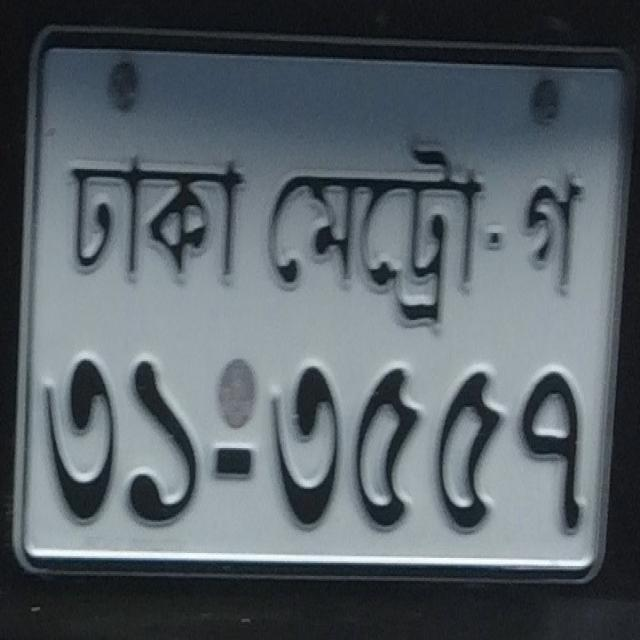numberplate: (10, 23, 634, 585)
